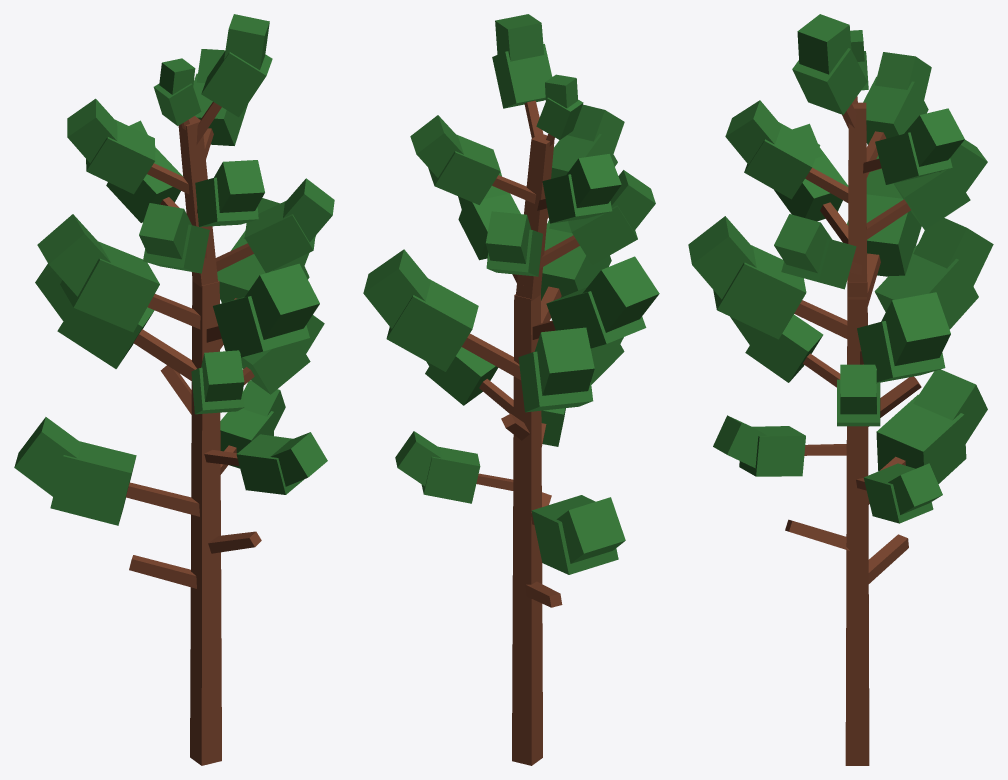
The model's file is baum.glb.
The picture shows the model from 3 angles, left to right: view 1: azimuth 30°, elevation 25°; view 2: azimuth 150°, elevation 25°; view 3: azimuth 270°, elevation 25°; orthographic projection. The views are drawn at different scales.
Parts seen in each view (by area): view 1: baum; view 2: baum; view 3: baum.
Part boxes in pixels (x1,y1,x2,y2): baum: (14,14,334,765); baum: (363,14,659,765); baum: (688,14,993,765).
Size of what is drawn, in the model's own units: 3.51 by 8.72 by 3.22.
